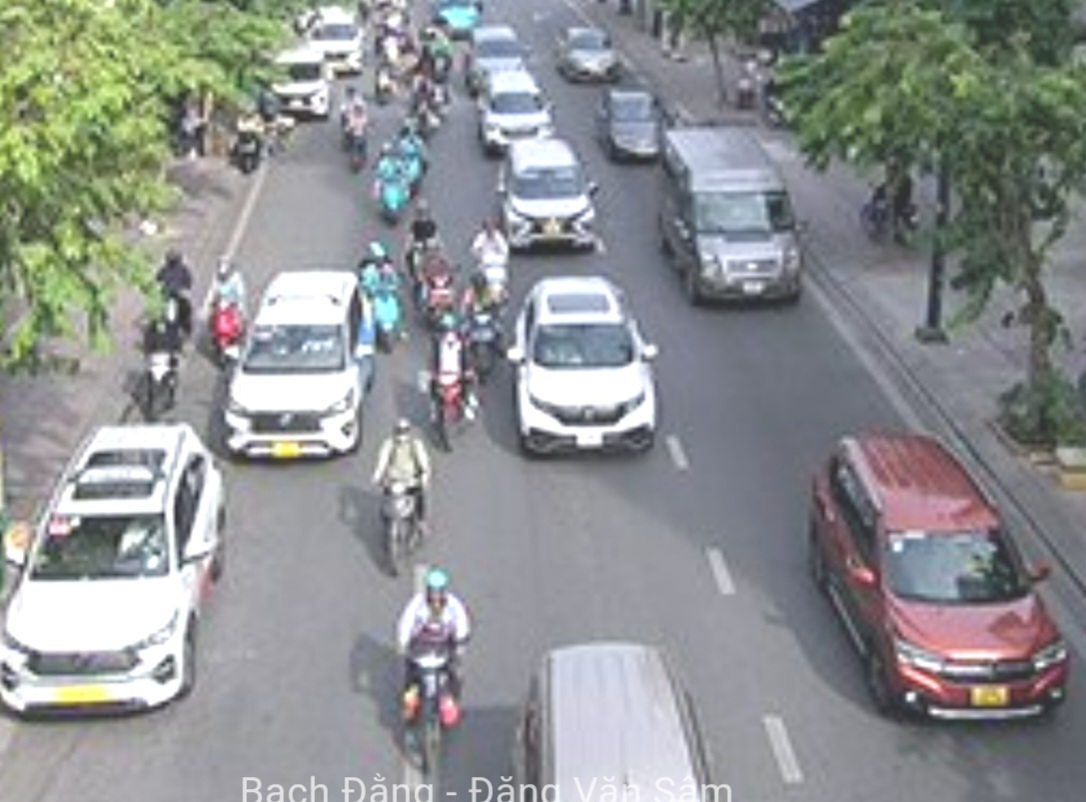car: (803, 428, 1066, 727), (10, 403, 227, 743), (225, 264, 377, 453), (507, 274, 660, 459), (665, 137, 805, 307), (498, 144, 595, 255), (474, 73, 554, 147), (599, 91, 671, 165), (268, 48, 332, 123), (467, 24, 533, 85), (556, 24, 623, 83)
